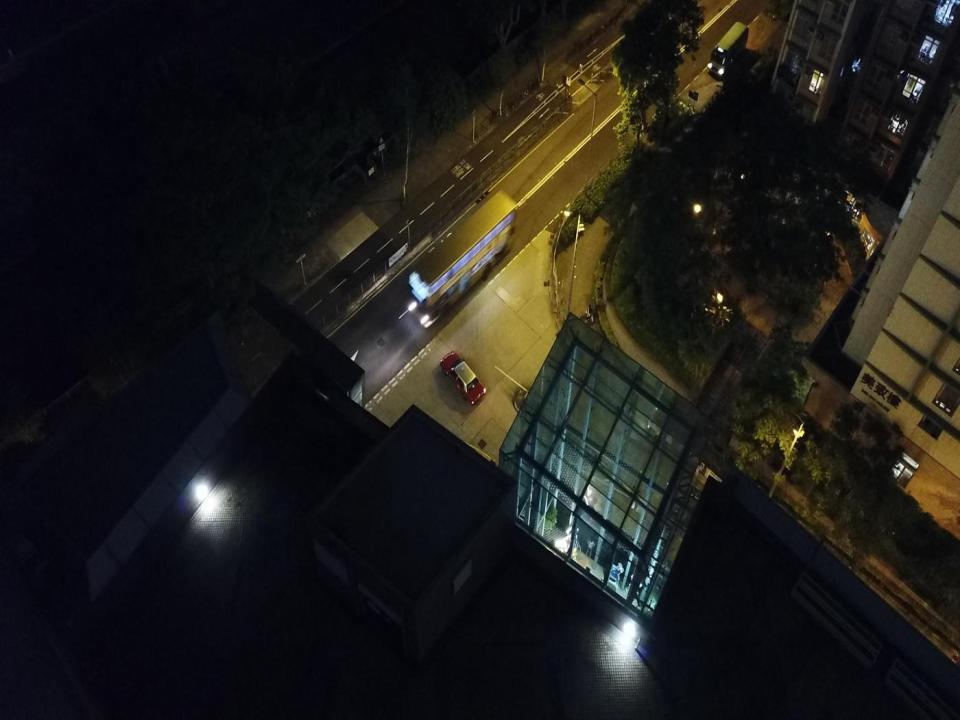bus: (408, 189, 519, 327), (707, 21, 749, 78)
car: (440, 350, 487, 405)
